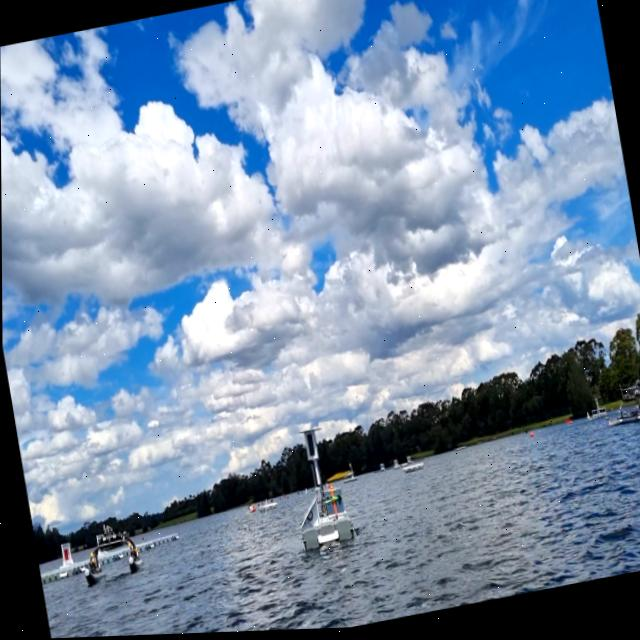led: (305, 434, 316, 461)
